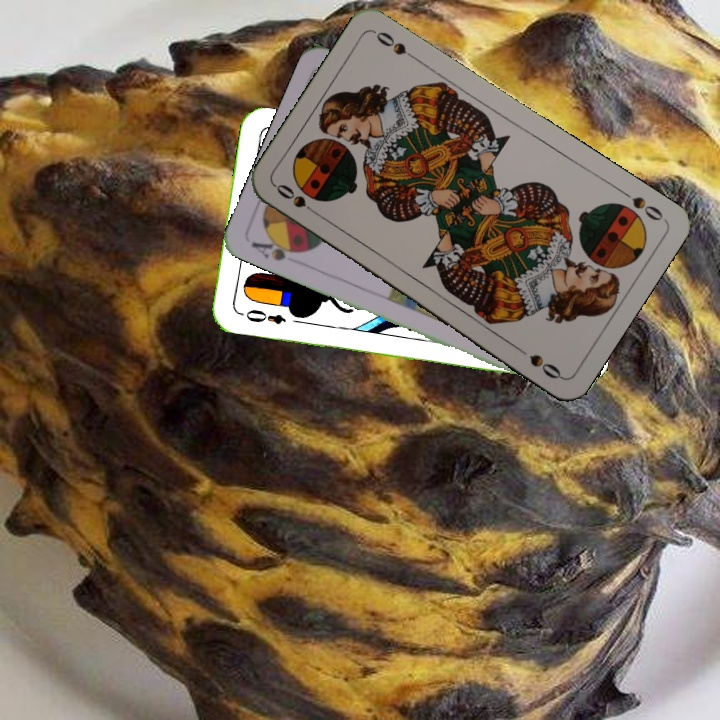EO: (241, 305, 289, 327)
SA: (247, 232, 307, 264)
SO: (272, 180, 324, 220), (615, 185, 666, 224)
